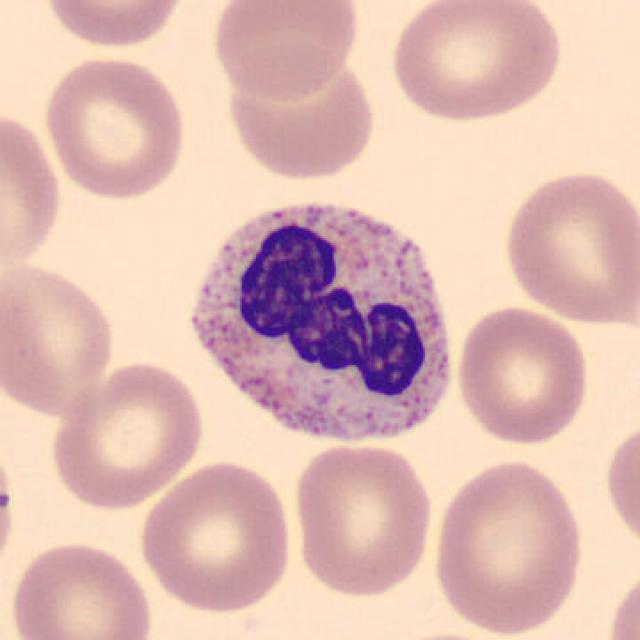Neutrophil: (176, 184, 468, 458)
RBC: (426, 455, 588, 638), (135, 457, 295, 615), (46, 358, 208, 511), (288, 439, 436, 599), (382, 0, 567, 125), (498, 166, 638, 330), (39, 53, 190, 203), (218, 46, 380, 183), (452, 301, 592, 448), (0, 256, 121, 420), (208, 0, 362, 102), (7, 536, 157, 640), (0, 104, 66, 277), (39, 0, 192, 51), (601, 414, 640, 557), (0, 426, 21, 596), (602, 564, 640, 640)
